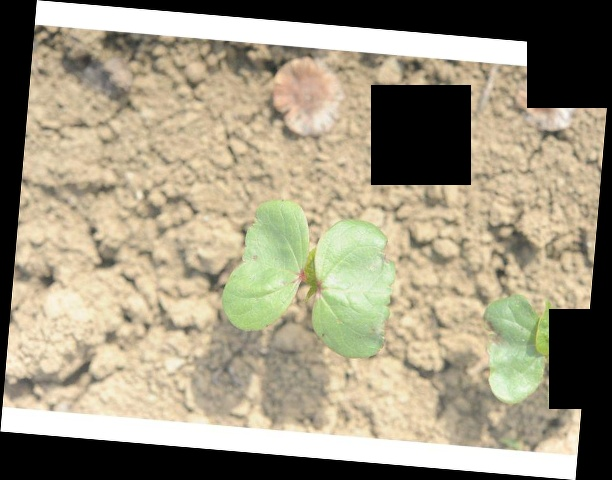cotton: (223, 199, 396, 355), (478, 293, 585, 409)
